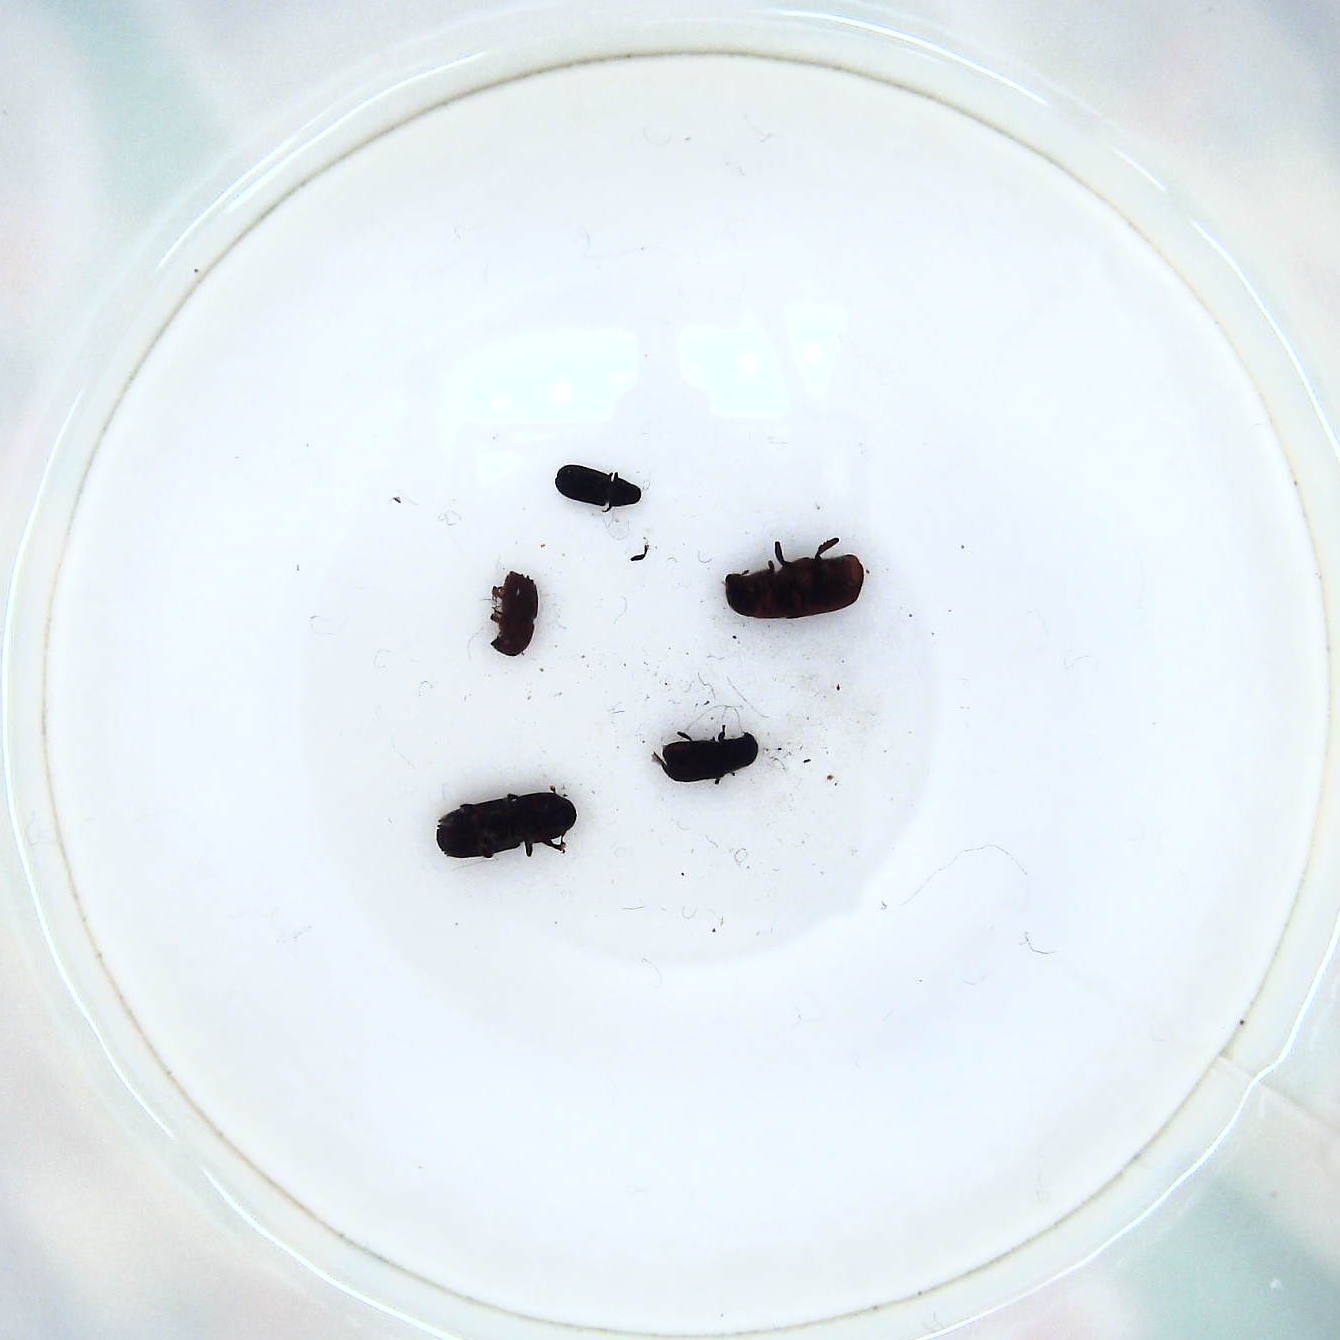Boerner: (429, 791, 582, 868)
Leconte: (722, 535, 872, 621)
armandi: (652, 728, 763, 789)
coleoptera: (551, 460, 645, 517)
linnaeus: (485, 569, 544, 661)
